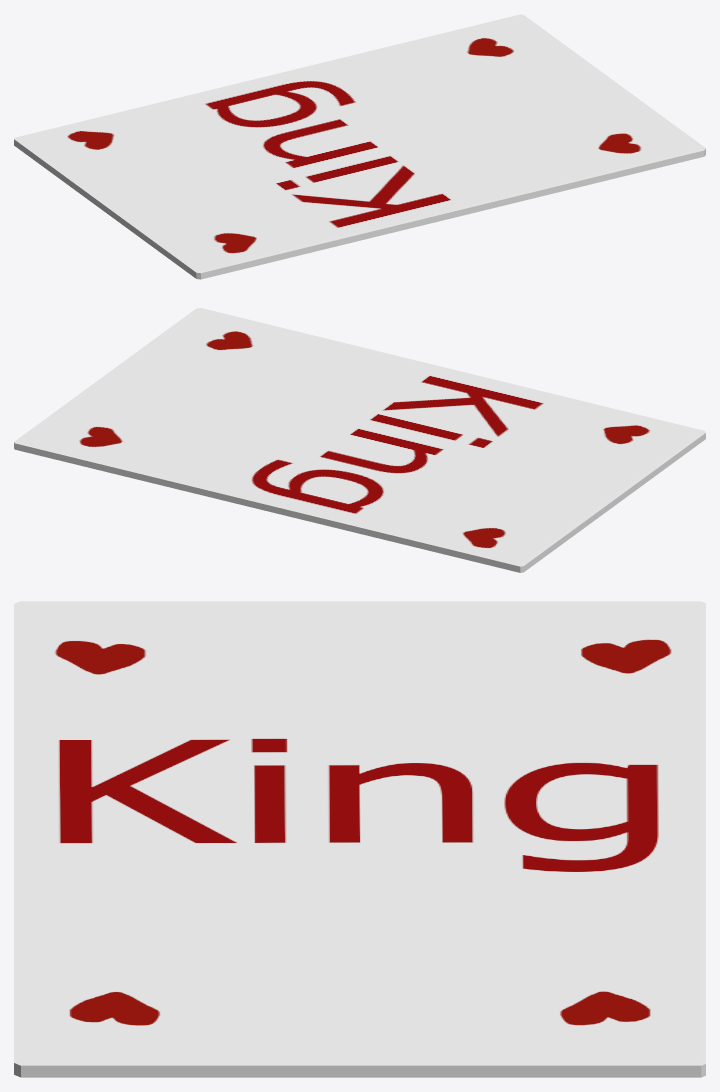
The model's file is King_Of_hearts.fbx.
The picture shows the model from 3 angles, top to bottom: view 1: azimuth 30°, elevation 25°; view 2: azimuth 150°, elevation 25°; view 3: azimuth 270°, elevation 25°; orthographic projection. The views are drawn at different scales.
Parts seen in each view (by area): view 1: Ace1; view 2: Ace1; view 3: Ace1.
Part boxes in pixels (bbox=[...]): Ace1: bbox=[14, 14, 705, 279]; Ace1: bbox=[14, 308, 705, 572]; Ace1: bbox=[14, 601, 705, 1077].
Size of the model in its own units: 540 by 6.56 by 340.
